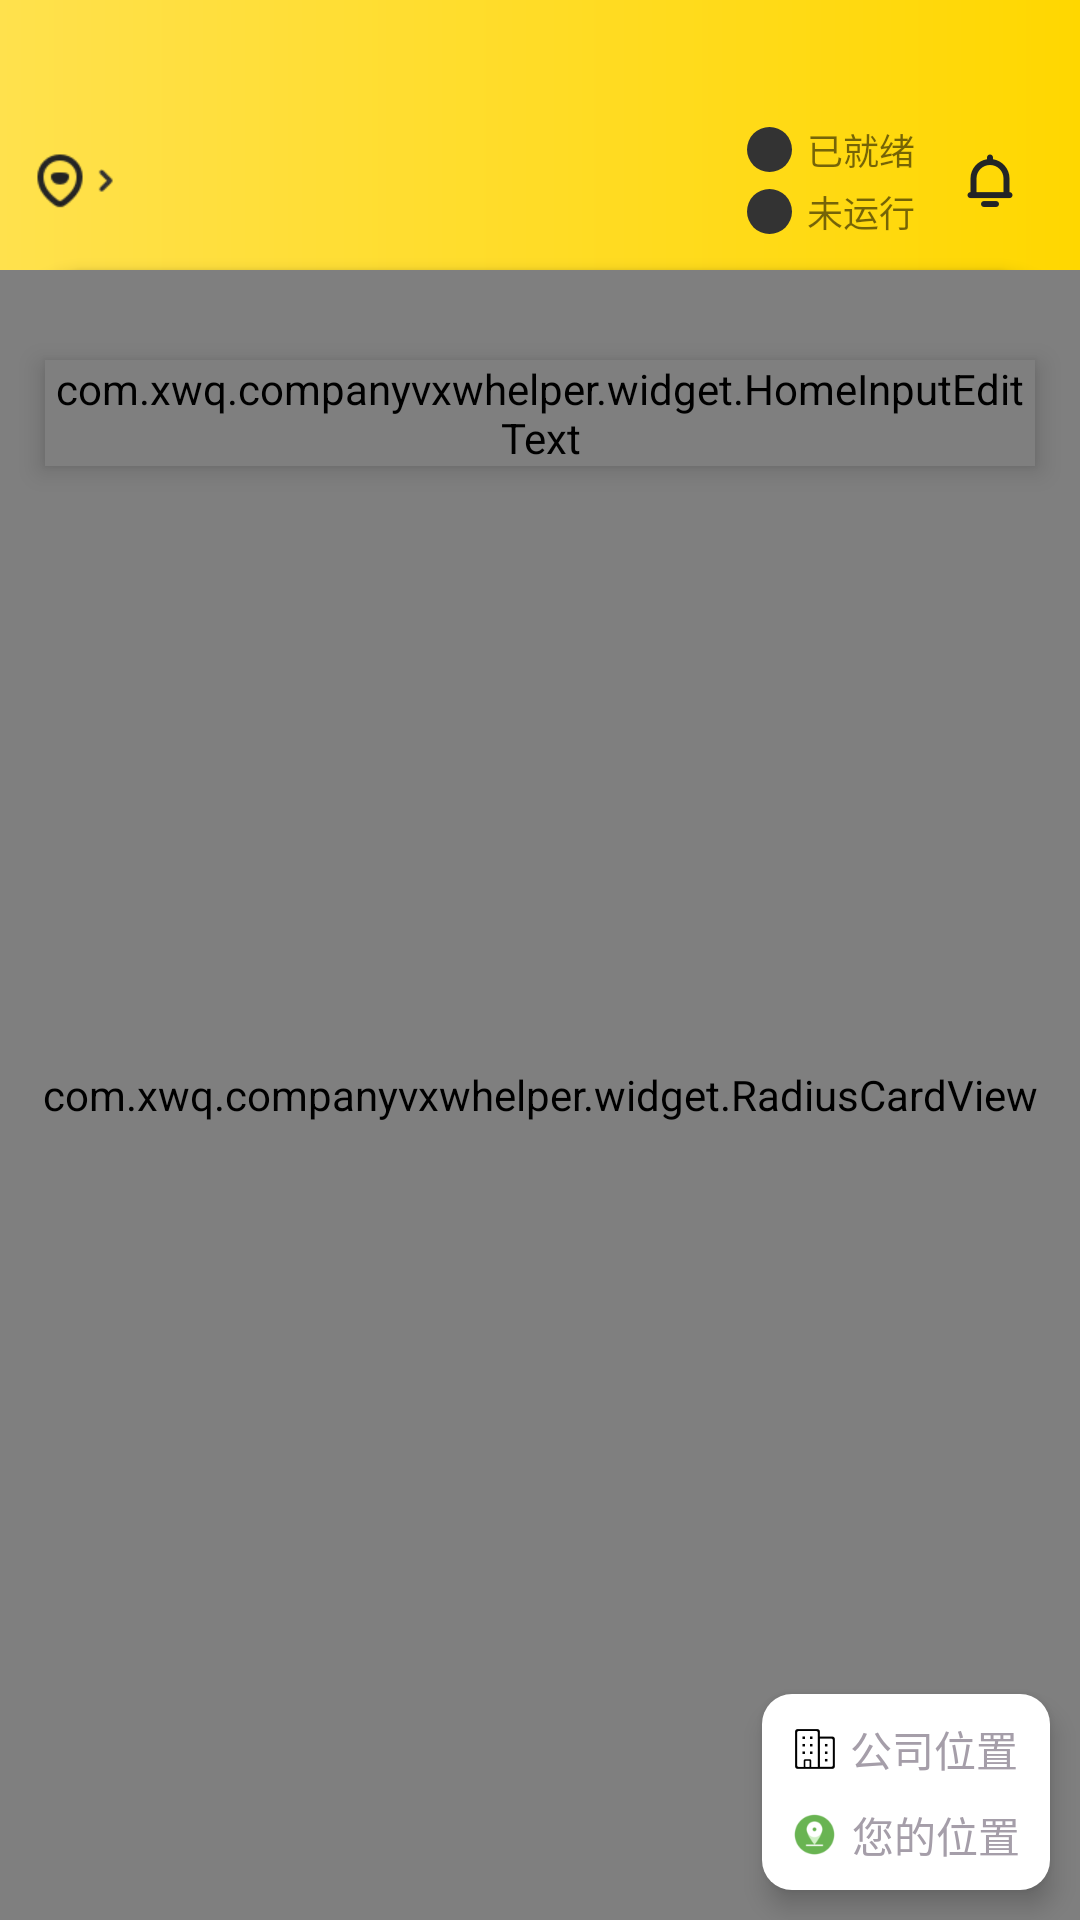

Icon click points for this 1080px x 1920px phone screenshot, format (x=x, y=y):
home message center: (x=990, y=180)
page main location: (x=60, y=181)
